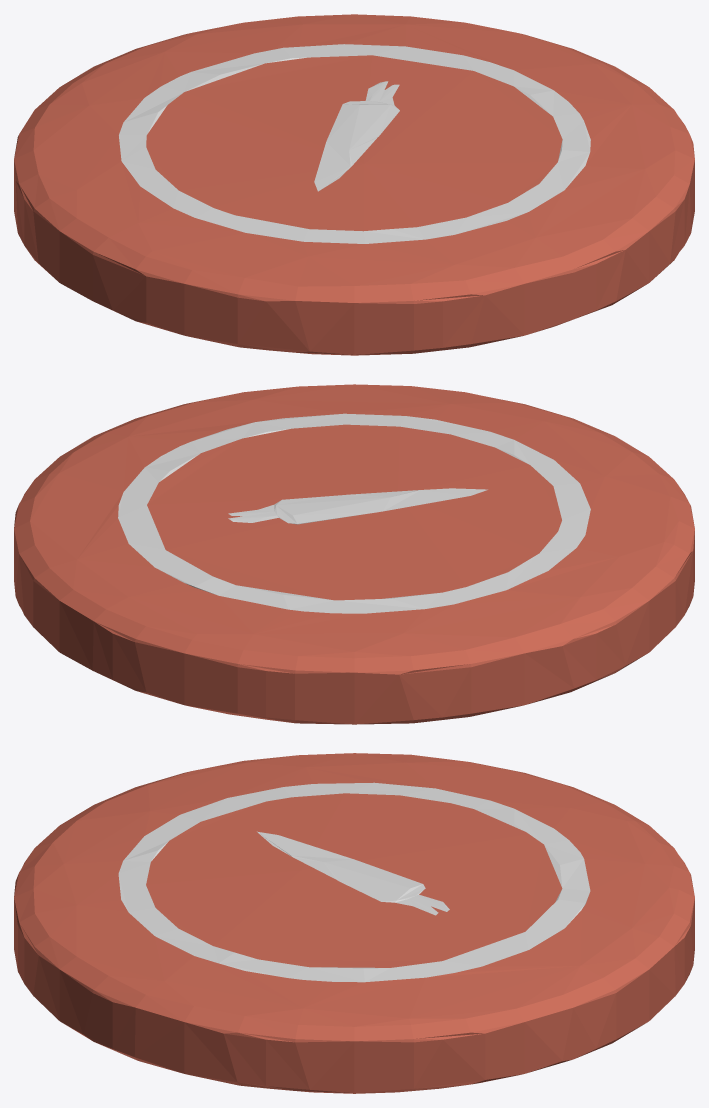
The model's file is frisbee.glb.
3 renders of one model, top to bottom at view 1: azimuth 30°, elevation 25°; view 2: azimuth 150°, elevation 25°; view 3: azimuth 270°, elevation 25°, orthographic.
Visible parts, largest first — view 1: Mesh_Mesh_head_geo001_lambert2SG001; view 2: Mesh_Mesh_head_geo001_lambert2SG001; view 3: Mesh_Mesh_head_geo001_lambert2SG001.
Boxes of the visible parts, bbox=[...] form: Mesh_Mesh_head_geo001_lambert2SG001: bbox=[14, 14, 694, 355]; Mesh_Mesh_head_geo001_lambert2SG001: bbox=[14, 384, 694, 724]; Mesh_Mesh_head_geo001_lambert2SG001: bbox=[14, 753, 694, 1093].
Size of the model in its own units: 99.62 by 13.45 by 99.62.
